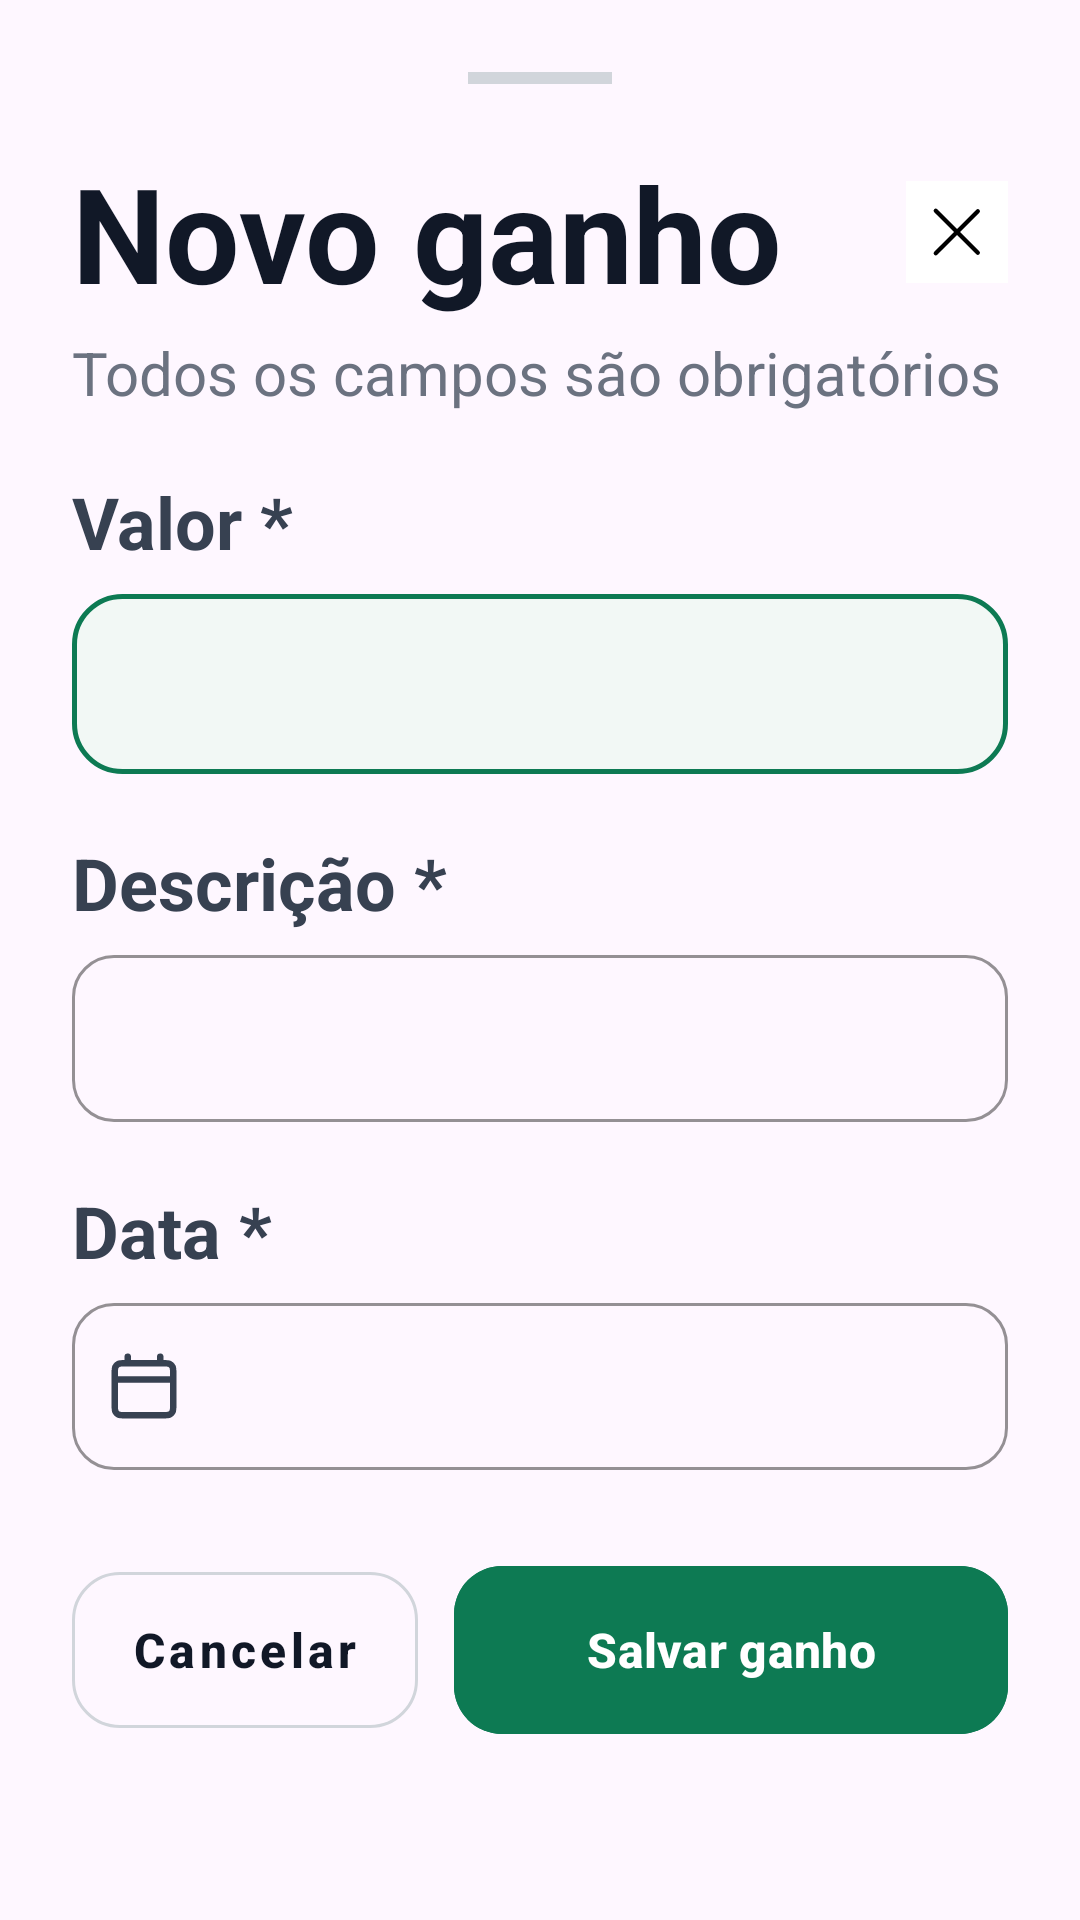

Named icons in this screenshot (1080w x 1920h) and their centers, (x=x, y=y):
close: (x=956, y=232)
